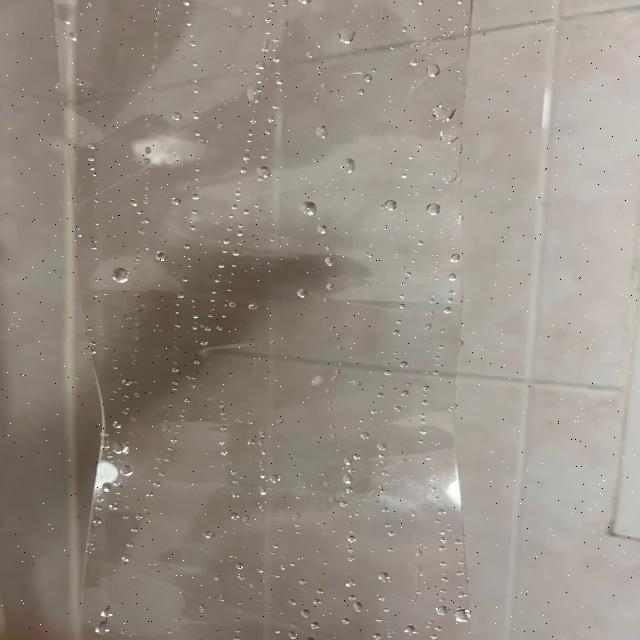raindrop: (432, 101, 452, 122), (337, 30, 360, 48), (108, 267, 130, 285), (314, 122, 336, 140), (107, 440, 135, 454), (425, 202, 445, 220), (96, 604, 118, 620), (338, 158, 358, 175), (438, 128, 458, 144), (383, 197, 398, 216), (200, 529, 220, 543), (90, 621, 111, 634), (311, 223, 332, 236), (302, 199, 317, 217), (296, 289, 314, 304), (427, 64, 447, 77), (336, 473, 356, 486), (257, 162, 273, 178), (256, 38, 273, 53), (376, 570, 390, 588), (454, 607, 467, 626), (351, 598, 367, 613), (153, 248, 170, 262), (120, 462, 133, 480), (241, 434, 259, 447), (189, 109, 204, 124), (170, 110, 186, 124), (270, 471, 286, 485), (251, 58, 272, 68), (312, 63, 328, 76), (338, 615, 354, 628), (142, 489, 160, 500), (187, 356, 203, 368), (442, 305, 458, 317), (170, 195, 184, 208), (112, 418, 125, 432), (218, 448, 232, 461), (436, 604, 450, 617), (132, 514, 150, 524), (229, 490, 244, 502), (228, 476, 244, 487), (338, 455, 354, 466), (66, 33, 83, 43), (253, 485, 270, 495), (99, 481, 113, 493), (85, 141, 100, 152), (260, 16, 276, 26), (92, 517, 105, 529), (170, 436, 183, 448), (270, 53, 282, 66), (229, 510, 242, 522), (88, 244, 103, 254), (398, 23, 413, 33), (450, 251, 462, 263), (361, 430, 373, 442), (375, 439, 387, 451), (402, 623, 414, 635), (223, 224, 236, 235), (399, 361, 412, 372), (307, 620, 320, 631), (105, 501, 119, 511), (324, 256, 336, 267), (246, 303, 258, 314), (270, 543, 282, 554), (381, 41, 393, 52), (117, 554, 130, 564), (324, 282, 337, 292), (128, 526, 142, 535), (237, 164, 251, 173), (386, 329, 404, 336), (81, 156, 101, 162), (200, 337, 212, 347), (297, 0, 312, 8), (356, 87, 368, 97), (362, 72, 374, 82), (424, 320, 436, 330), (298, 609, 310, 619), (310, 596, 322, 606), (217, 425, 230, 434), (215, 595, 228, 604), (127, 198, 141, 206), (216, 399, 227, 409), (233, 598, 244, 608), (180, 0, 192, 9), (382, 367, 394, 376), (396, 388, 408, 397), (279, 20, 292, 28), (205, 287, 218, 295), (446, 272, 459, 280), (408, 58, 418, 68), (305, 51, 316, 60), (188, 130, 204, 136), (170, 386, 182, 394), (274, 78, 286, 86), (286, 598, 298, 606), (152, 481, 162, 490), (249, 115, 259, 124), (409, 155, 418, 165), (345, 536, 360, 542), (342, 582, 357, 588), (169, 367, 180, 375), (240, 156, 251, 164), (235, 230, 246, 238), (219, 411, 230, 419), (140, 218, 152, 225), (415, 0, 427, 7), (187, 41, 196, 50), (213, 574, 222, 583), (228, 263, 238, 271), (177, 293, 187, 301), (228, 300, 238, 308), (217, 439, 227, 447), (376, 392, 384, 402), (353, 452, 363, 460), (180, 397, 193, 403), (230, 203, 241, 210), (165, 446, 180, 451), (170, 380, 182, 386), (268, 3, 280, 9), (242, 209, 251, 217), (217, 261, 225, 270), (369, 406, 378, 414), (268, 117, 278, 124), (231, 468, 238, 478), (259, 450, 269, 457), (420, 399, 430, 406), (75, 232, 86, 238), (315, 44, 326, 50), (64, 18, 72, 26), (232, 191, 240, 199), (235, 562, 243, 570), (340, 501, 348, 509), (375, 632, 383, 640), (392, 319, 402, 325), (418, 430, 428, 436), (315, 588, 325, 594), (190, 195, 198, 202), (401, 172, 408, 180), (346, 559, 356, 564), (254, 568, 262, 574), (417, 237, 423, 245), (422, 385, 430, 391), (288, 631, 298, 635)
